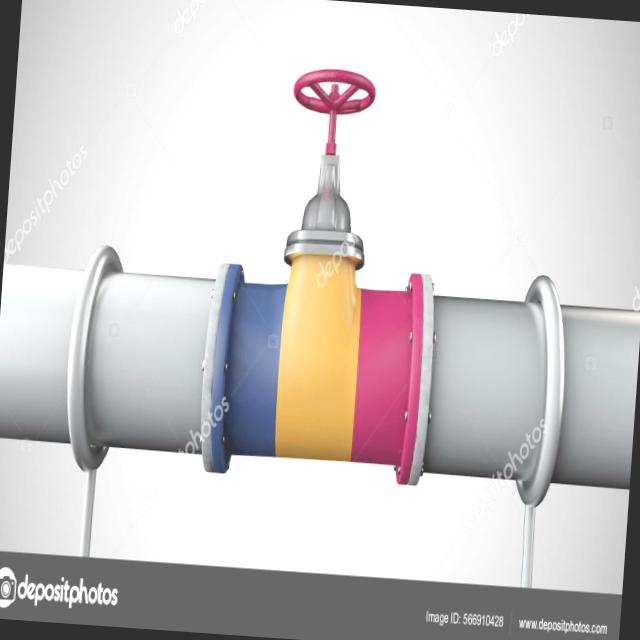gas: (0, 252, 640, 514)
